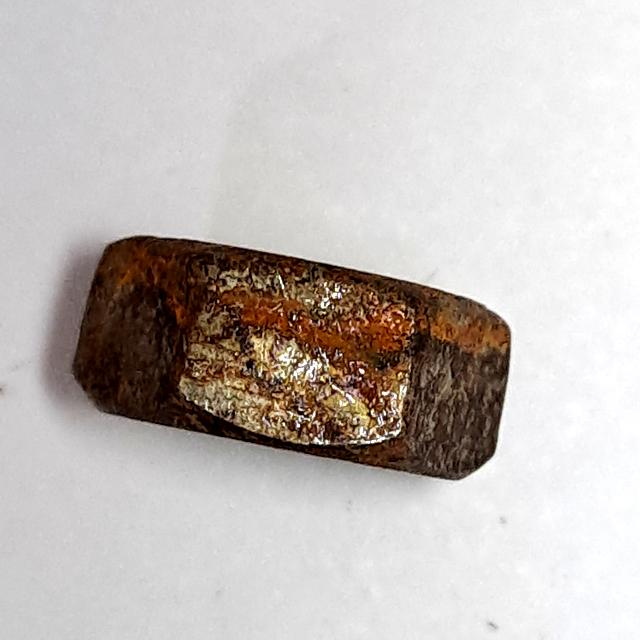Side_Rust: (64, 215, 527, 494)
